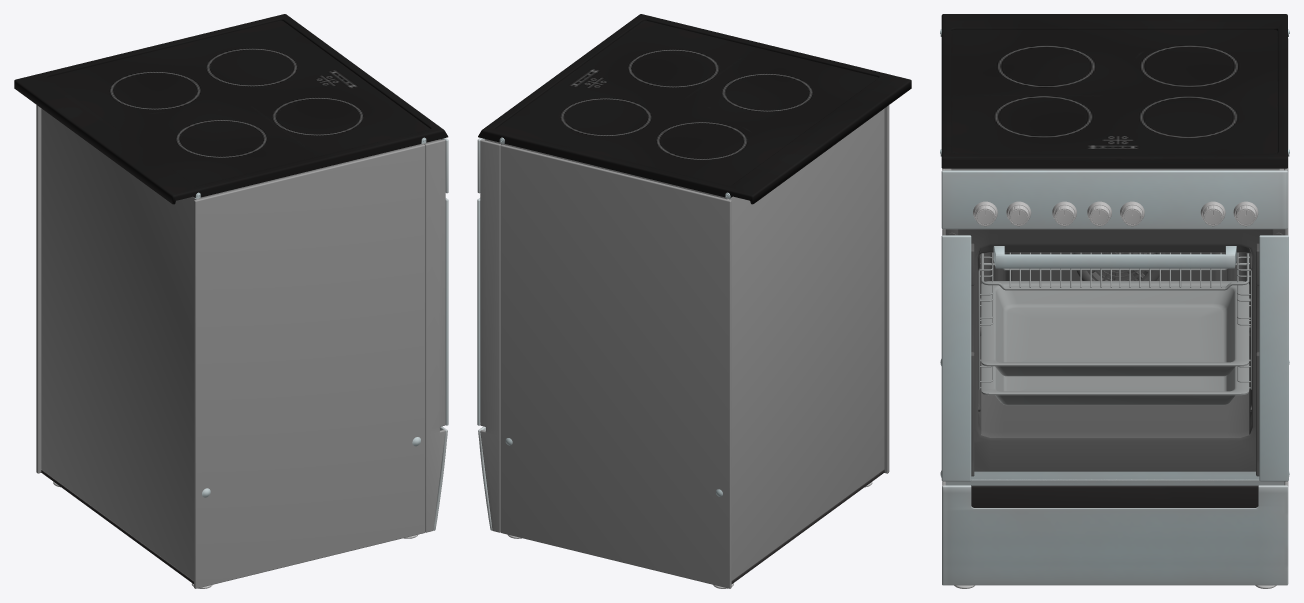
Rendered from visual_HighPoly_09_Oven.dae.
3 views of the same model, side by side, from view 1: azimuth 30°, elevation 25°; view 2: azimuth 150°, elevation 25°; view 3: azimuth 270°, elevation 25° (orthographic). The views are drawn at different scales.
Visible parts, largest first — view 1: SM_oven_high; view 2: SM_oven_high; view 3: SM_oven_high.
Boxes of the visible parts, x1=… form: SM_oven_high: x1=14, y1=14, x2=448, y2=588; SM_oven_high: x1=477, y1=14, x2=911, y2=588; SM_oven_high: x1=940, y1=14, x2=1289, y2=588.
Size of the model in its own units: 63.7 by 60.6 by 84.33.
Materials: 2 (1 with a texture image).
